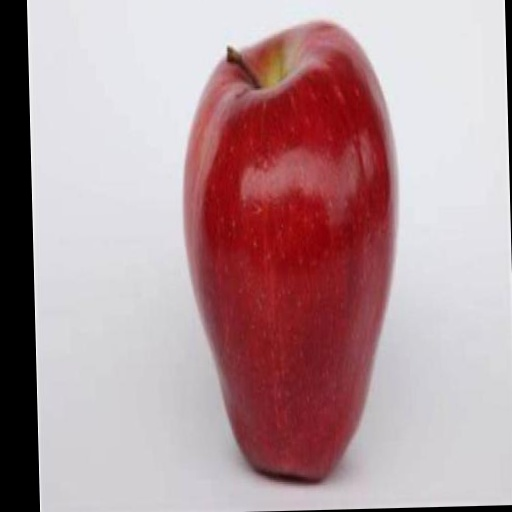fruit: (184, 23, 396, 479)
